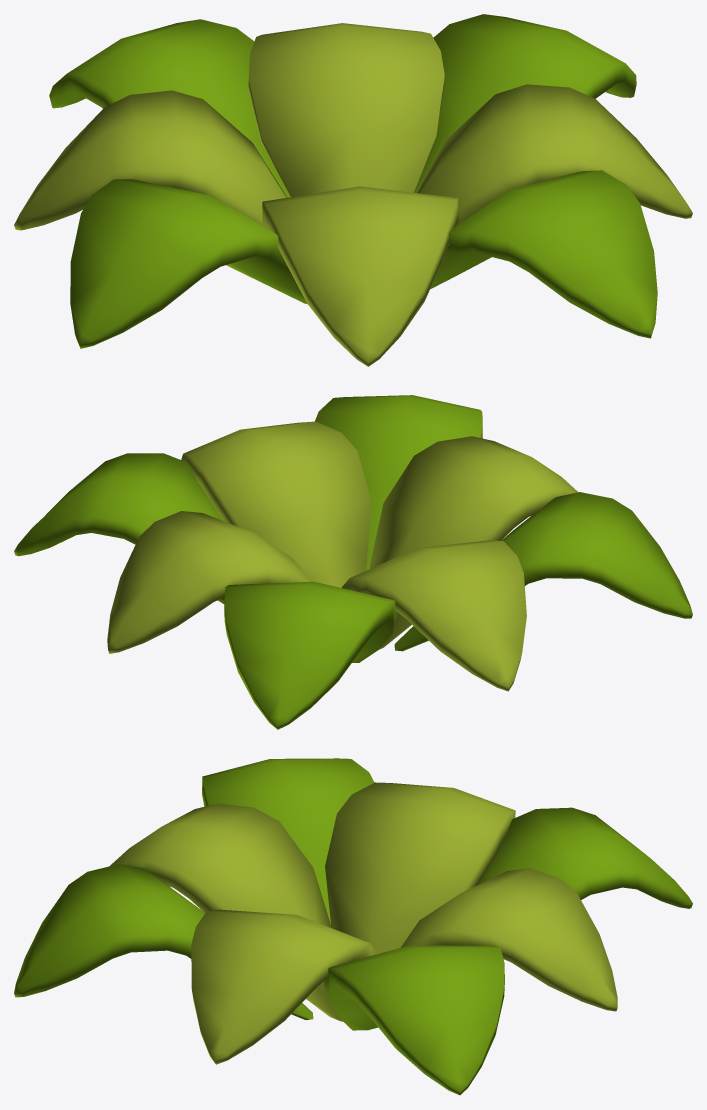
The model's file is Plant_Large.gltf.
3 renders of one model, top to bottom at view 1: azimuth 30°, elevation 25°; view 2: azimuth 150°, elevation 25°; view 3: azimuth 270°, elevation 25°, orthographic. The views are drawn at different scales.
Visible parts, largest first — view 1: Plant_Large; view 2: Plant_Large; view 3: Plant_Large.
Boxes of the visible parts, x1=… form: Plant_Large: x1=14, y1=14, x2=692, y2=366; Plant_Large: x1=14, y1=395, x2=692, y2=729; Plant_Large: x1=14, y1=758, x2=692, y2=1095.
Size of the model in its own units: 1.9 by 0.4579 by 1.9.
